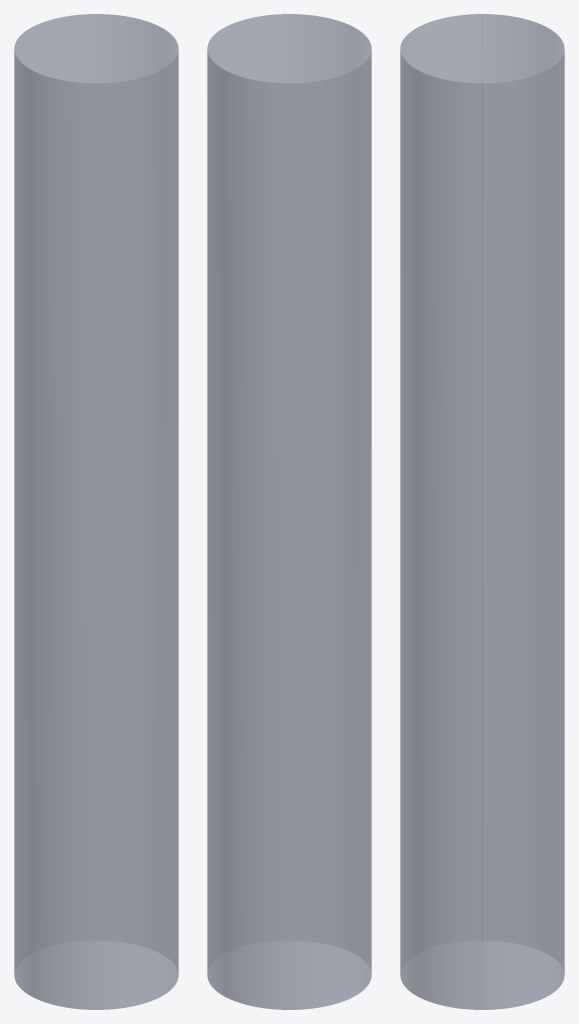
The model's file is pillar-round.glb.
3 views of the same model, side by side, from view 1: azimuth 30°, elevation 25°; view 2: azimuth 150°, elevation 25°; view 3: azimuth 270°, elevation 25° (orthographic).
Visible parts, largest first — view 1: pillar-round; view 2: pillar-round; view 3: pillar-round.
Boxes of the visible parts, left/top/right/bottom form: pillar-round: left=14, top=14, right=178, bottom=1009; pillar-round: left=207, top=14, right=371, bottom=1009; pillar-round: left=400, top=14, right=564, bottom=1009.
Size of the model in its own units: 0.45 by 2.8 by 0.45.
